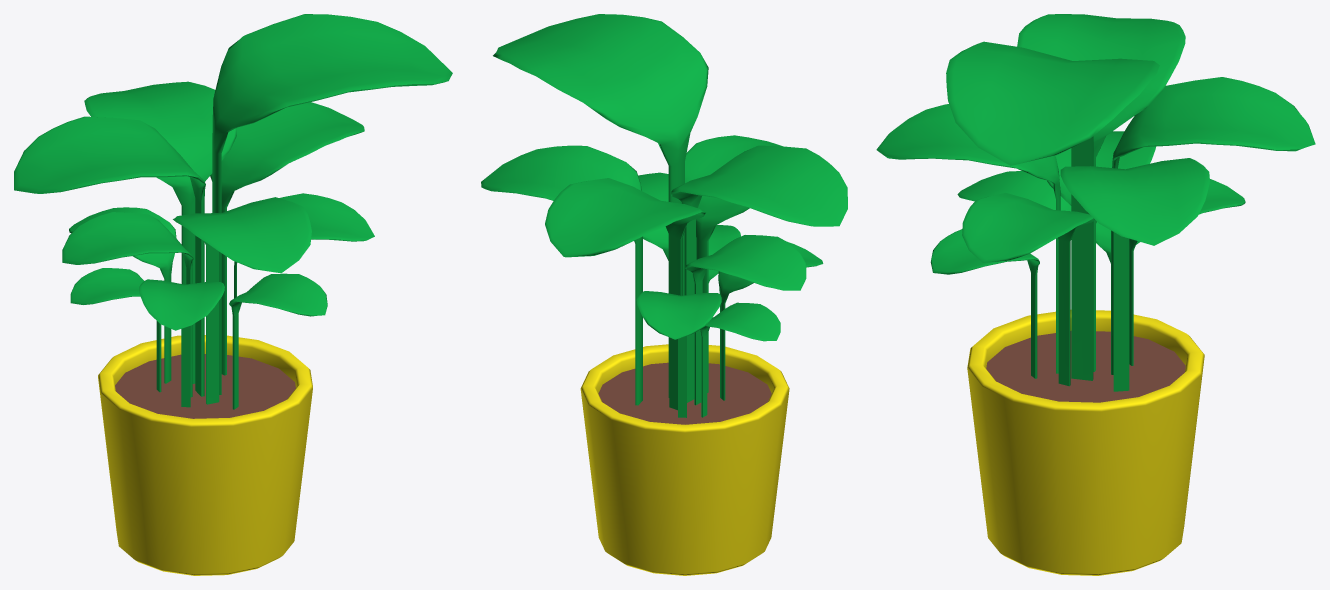
Rendered from Store_6_Plant_12.glb.
The picture shows the model from 3 angles, left to right: view 1: azimuth 30°, elevation 25°; view 2: azimuth 150°, elevation 25°; view 3: azimuth 270°, elevation 25°; orthographic projection. The views are drawn at different scales.
Parts seen in each view (by area): view 1: Store_6_Plant_12; view 2: Store_6_Plant_12; view 3: Store_6_Plant_12.
Boxes of the visible parts, <box> form: Store_6_Plant_12: <box>14,14,452,575</box>; Store_6_Plant_12: <box>481,14,847,575</box>; Store_6_Plant_12: <box>876,14,1315,575</box>.
Bounding box in the file's own units: 1.67 × 1.95 × 1.48.
1 material, 1 textured.
